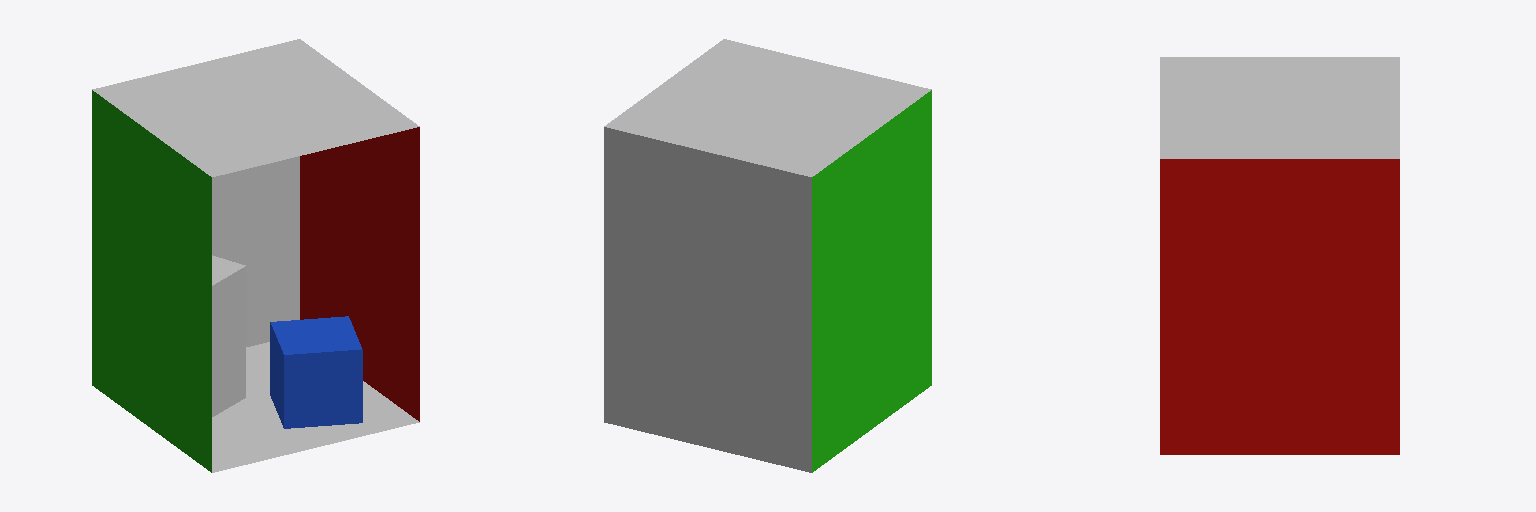
The model's file is cornell_box.obj.
3 renders of one model, left to right at view 1: azimuth 30°, elevation 25°; view 2: azimuth 150°, elevation 25°; view 3: azimuth 270°, elevation 25°, orthographic.
Visible parts, largest first — view 1: CornellBox, GlassBox, MetalBox; view 2: CornellBox; view 3: CornellBox.
Part boxes in pixels (bbox=[...]): CornellBox: bbox=[92, 39, 419, 472]; GlassBox: bbox=[270, 316, 362, 428]; MetalBox: bbox=[212, 255, 245, 416]; CornellBox: bbox=[604, 39, 931, 472]; CornellBox: bbox=[1160, 57, 1399, 454].
Size of the model in its own units: 1.47 by 2 by 1.47.